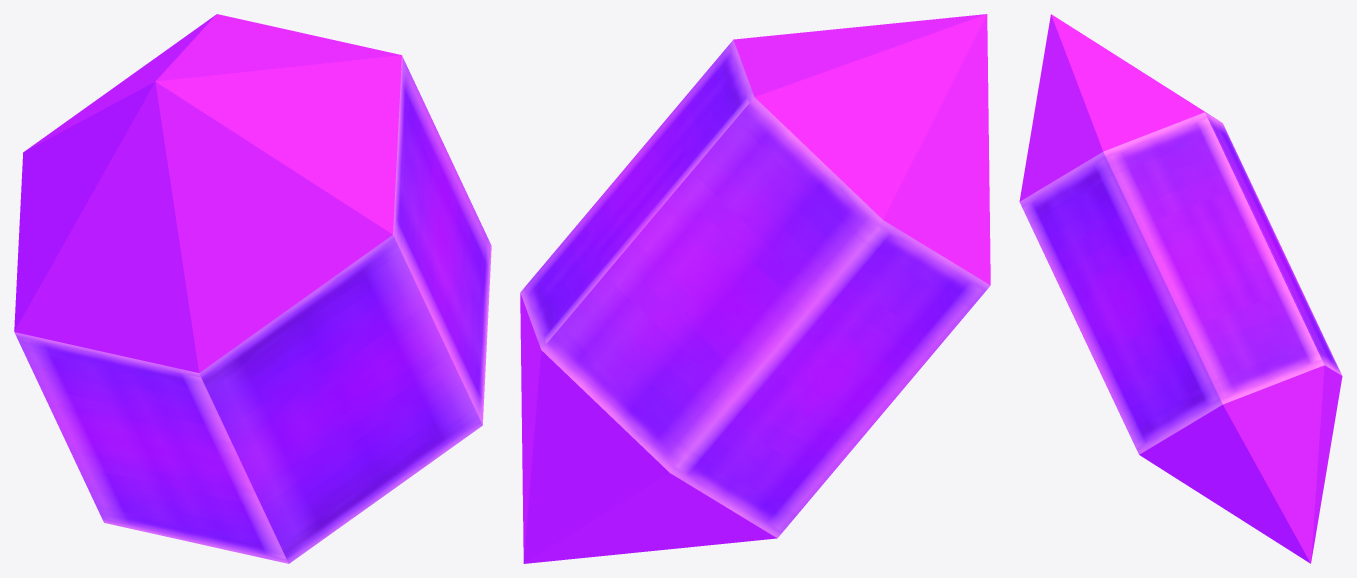
Rendered from res_crystal_shard_low.glb.
The picture shows the model from 3 angles, left to right: view 1: azimuth 30°, elevation 25°; view 2: azimuth 150°, elevation 25°; view 3: azimuth 270°, elevation 25°; orthographic projection. The views are drawn at different scales.
Visible parts, largest first — view 1: res_crystal_shard_low; view 2: res_crystal_shard_low; view 3: res_crystal_shard_low.
Boxes of the visible parts, left/top/right/bottom form: res_crystal_shard_low: left=14, top=14, right=491, bottom=563; res_crystal_shard_low: left=520, top=14, right=990, bottom=563; res_crystal_shard_low: left=1019, top=14, right=1342, bottom=563.
Bounding box in the file's own units: 0.1583 × 0.1839 × 0.1266.
Materials: 2 (1 with a texture image).
